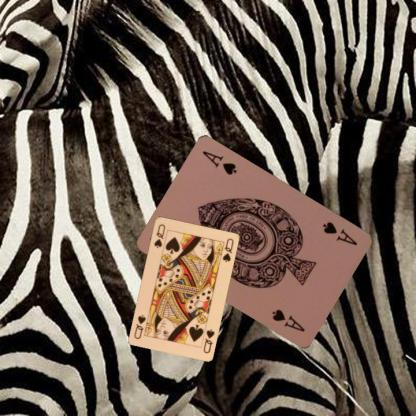As: (320, 219, 359, 247)
Qs: (200, 326, 216, 354), (152, 221, 166, 249)
